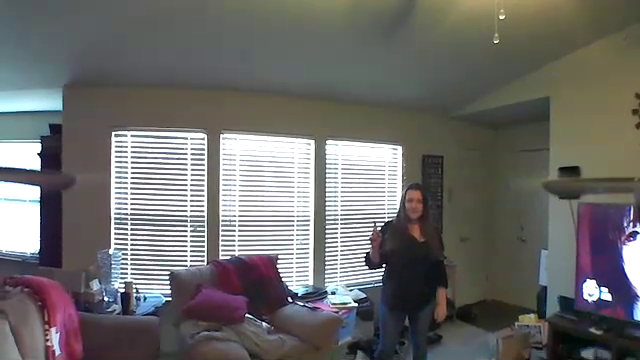up: (361, 216, 383, 248)
